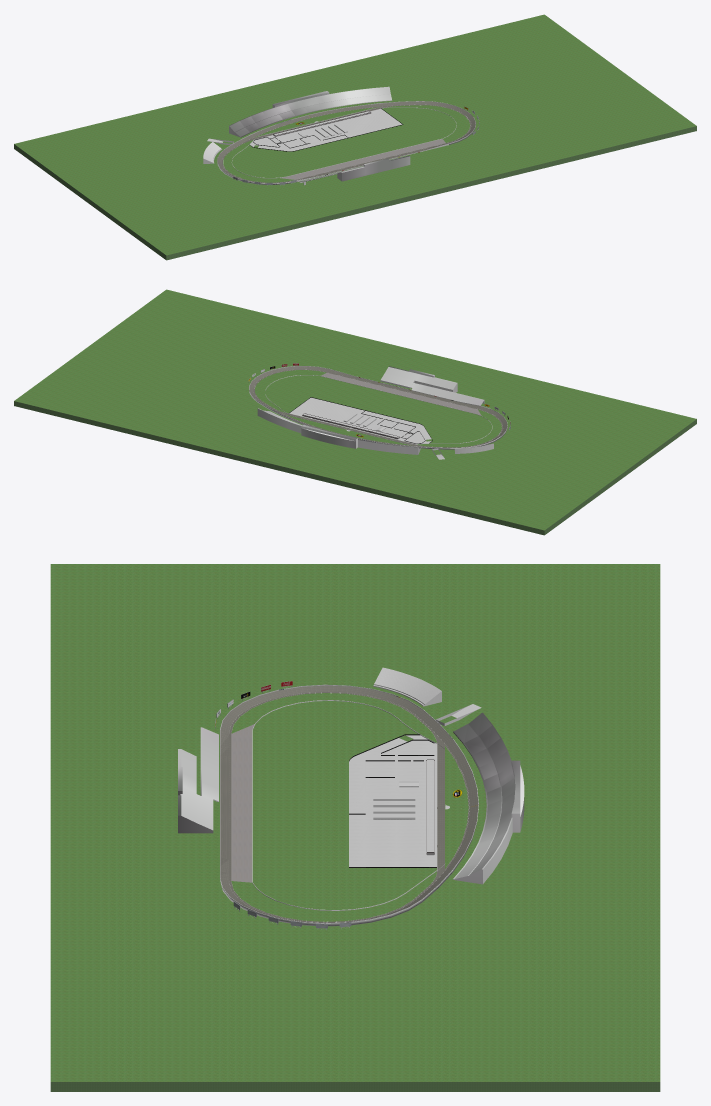
3 renders of one model, top to bottom at view 1: azimuth 30°, elevation 25°; view 2: azimuth 150°, elevation 25°; view 3: azimuth 270°, elevation 25°, orthographic. The views are drawn at different scales.
Parts seen in each view (by area): view 1: michigan-SKP--Vegetation_Grass_Artificial1, michigan-SKP--Metal_Aluminum_Grooved, michigan-SKP--Vegetation_Grass_Original, michigan-SKP--Metal_Steel_Textured_White, michigan-SKP--Material2, michigan-SKP--Concrete_Aggregate_Smoke; view 2: michigan-SKP--Vegetation_Grass_Artificial1, michigan-SKP--Metal_Aluminum_Grooved, michigan-SKP--Vegetation_Grass_Original, michigan-SKP--Metal_Steel_Textured_White, michigan-SKP--Material2, michigan-SKP--Concrete_Aggregate_Smoke; view 3: michigan-SKP--Vegetation_Grass_Artificial1, michigan-SKP--Metal_Aluminum_Grooved, michigan-SKP--Metal_Steel_Textured_White, michigan-SKP--Material2, michigan-SKP--Vegetation_Grass_Original, michigan-SKP--Concrete_Aggregate_Smoke.
Part boxes in pixels (x1,y1,x2,y2): michigan-SKP--Vegetation_Grass_Artificial1: (14,14,696,255); michigan-SKP--Metal_Aluminum_Grooved: (203,101,475,184); michigan-SKP--Vegetation_Grass_Original: (14,126,696,260); michigan-SKP--Metal_Steel_Textured_White: (229,86,410,185); michigan-SKP--Material2: (217,101,475,183); michigan-SKP--Concrete_Aggregate_Smoke: (280,139,445,179); michigan-SKP--Vegetation_Grass_Artificial1: (14,289,696,530); michigan-SKP--Metal_Aluminum_Grooved: (249,366,507,459); michigan-SKP--Vegetation_Grass_Original: (14,401,696,535); michigan-SKP--Metal_Steel_Textured_White: (257,366,484,454); michigan-SKP--Material2: (249,366,507,447); michigan-SKP--Concrete_Aggregate_Smoke: (302,372,481,438); michigan-SKP--Vegetation_Grass_Artificial1: (50,564,660,1081); michigan-SKP--Metal_Aluminum_Grooved: (213,667,481,926); michigan-SKP--Metal_Steel_Textured_White: (178,712,524,884); michigan-SKP--Material2: (220,685,478,923); michigan-SKP--Vegetation_Grass_Original: (50,1082,660,1091); michigan-SKP--Concrete_Aggregate_Smoke: (231,724,254,882).
Bounding box in the file's own units: 470908 × 13465 × 234343.
Materials: 25 (21 with a texture image).
